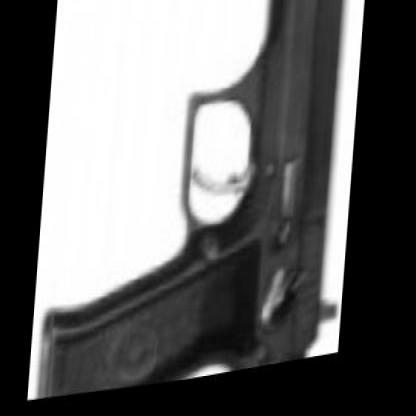pistol: (46, 0, 363, 405)
